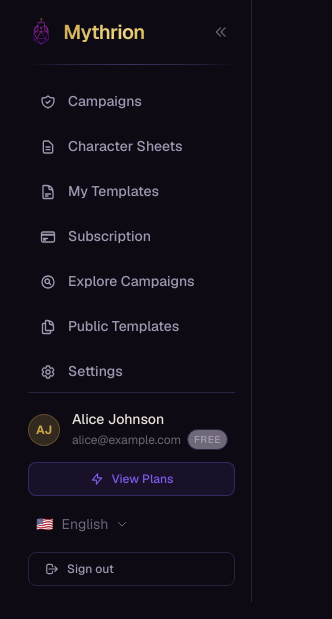
Scenario: Sidebar collapsed state › shows expand button when collapsed
Click the button titled "Collapse sidebar": (221,32) [207,18,235,46]
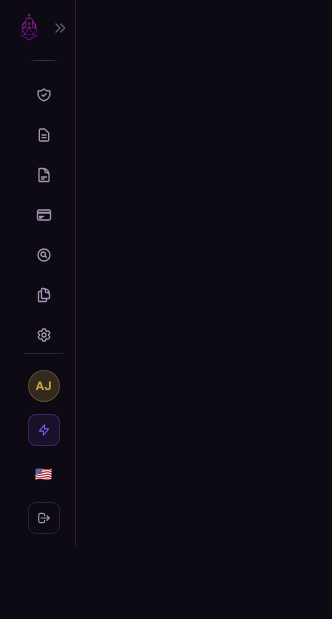
expect the button titled "Expand sidebar" is shown: met, box [46,14,74,42]
